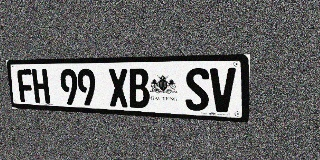9: (77, 69, 97, 106), (59, 69, 79, 105)
B: (128, 68, 150, 108)
F: (17, 69, 35, 103)
H: (32, 69, 50, 104)
S: (185, 68, 209, 111)
V: (210, 68, 236, 113)
X: (108, 68, 129, 107)
